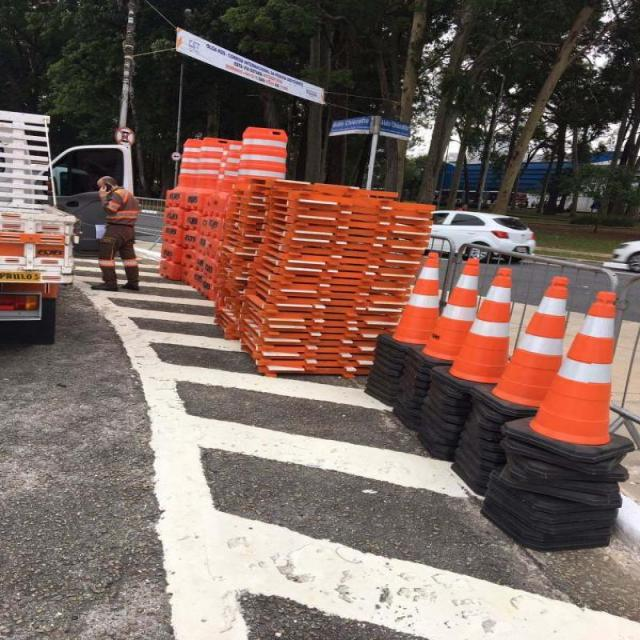cone: (459, 261, 522, 407), (571, 290, 622, 448), (398, 248, 444, 342)
